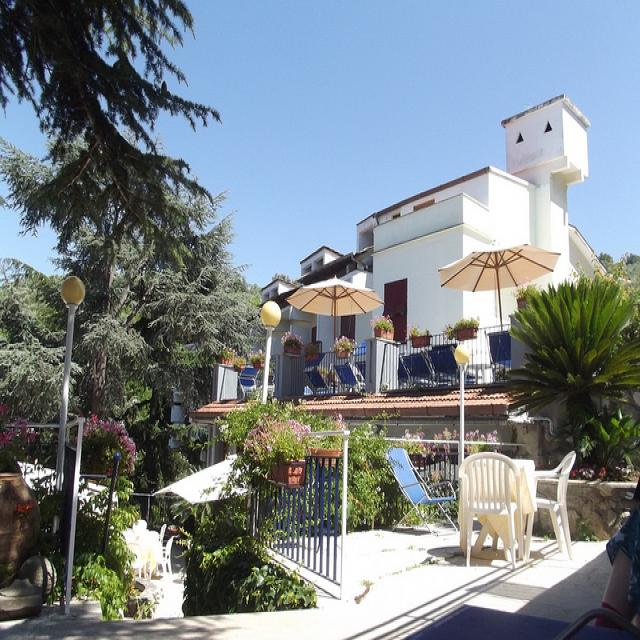chair: (457, 451, 524, 569), (386, 448, 456, 537), (524, 450, 577, 562), (423, 344, 487, 387), (462, 329, 491, 376), (487, 330, 511, 380), (399, 351, 438, 381), (157, 536, 175, 584), (334, 362, 359, 394), (238, 367, 261, 401), (303, 368, 329, 395), (157, 523, 167, 549)
dining table: (123, 528, 162, 576), (511, 459, 537, 515)
